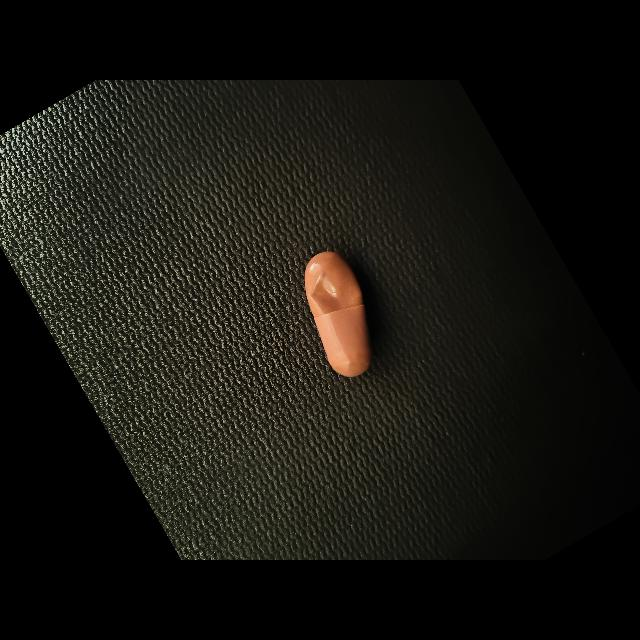Defective Capsule: (311, 271, 362, 314)
